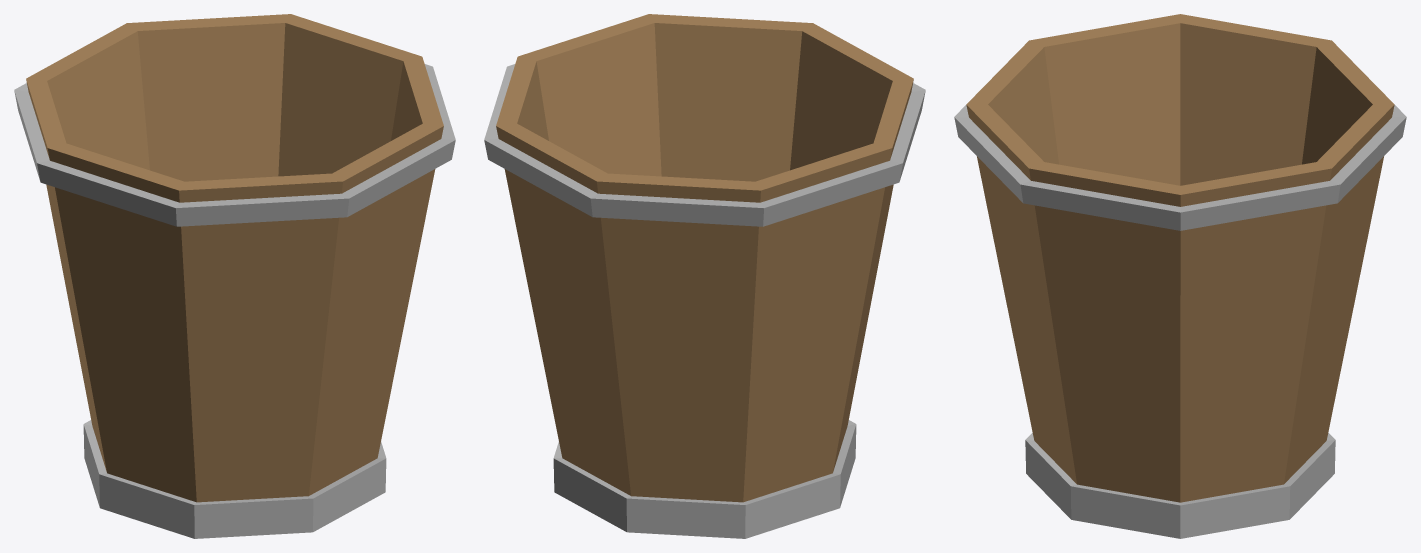
The model's file is cup.fbx.
The picture shows the model from 3 angles, left to right: view 1: azimuth 30°, elevation 25°; view 2: azimuth 150°, elevation 25°; view 3: azimuth 270°, elevation 25°; orthographic projection.
Visible parts, largest first — view 1: Circle; view 2: Circle; view 3: Circle.
Part boxes in pixels (x1,y1,x2,y2): Circle: (14,14,455,538); Circle: (484,14,925,538); Circle: (954,14,1406,538).
Size of the model in its own units: 31.13 by 28.02 by 31.13.
